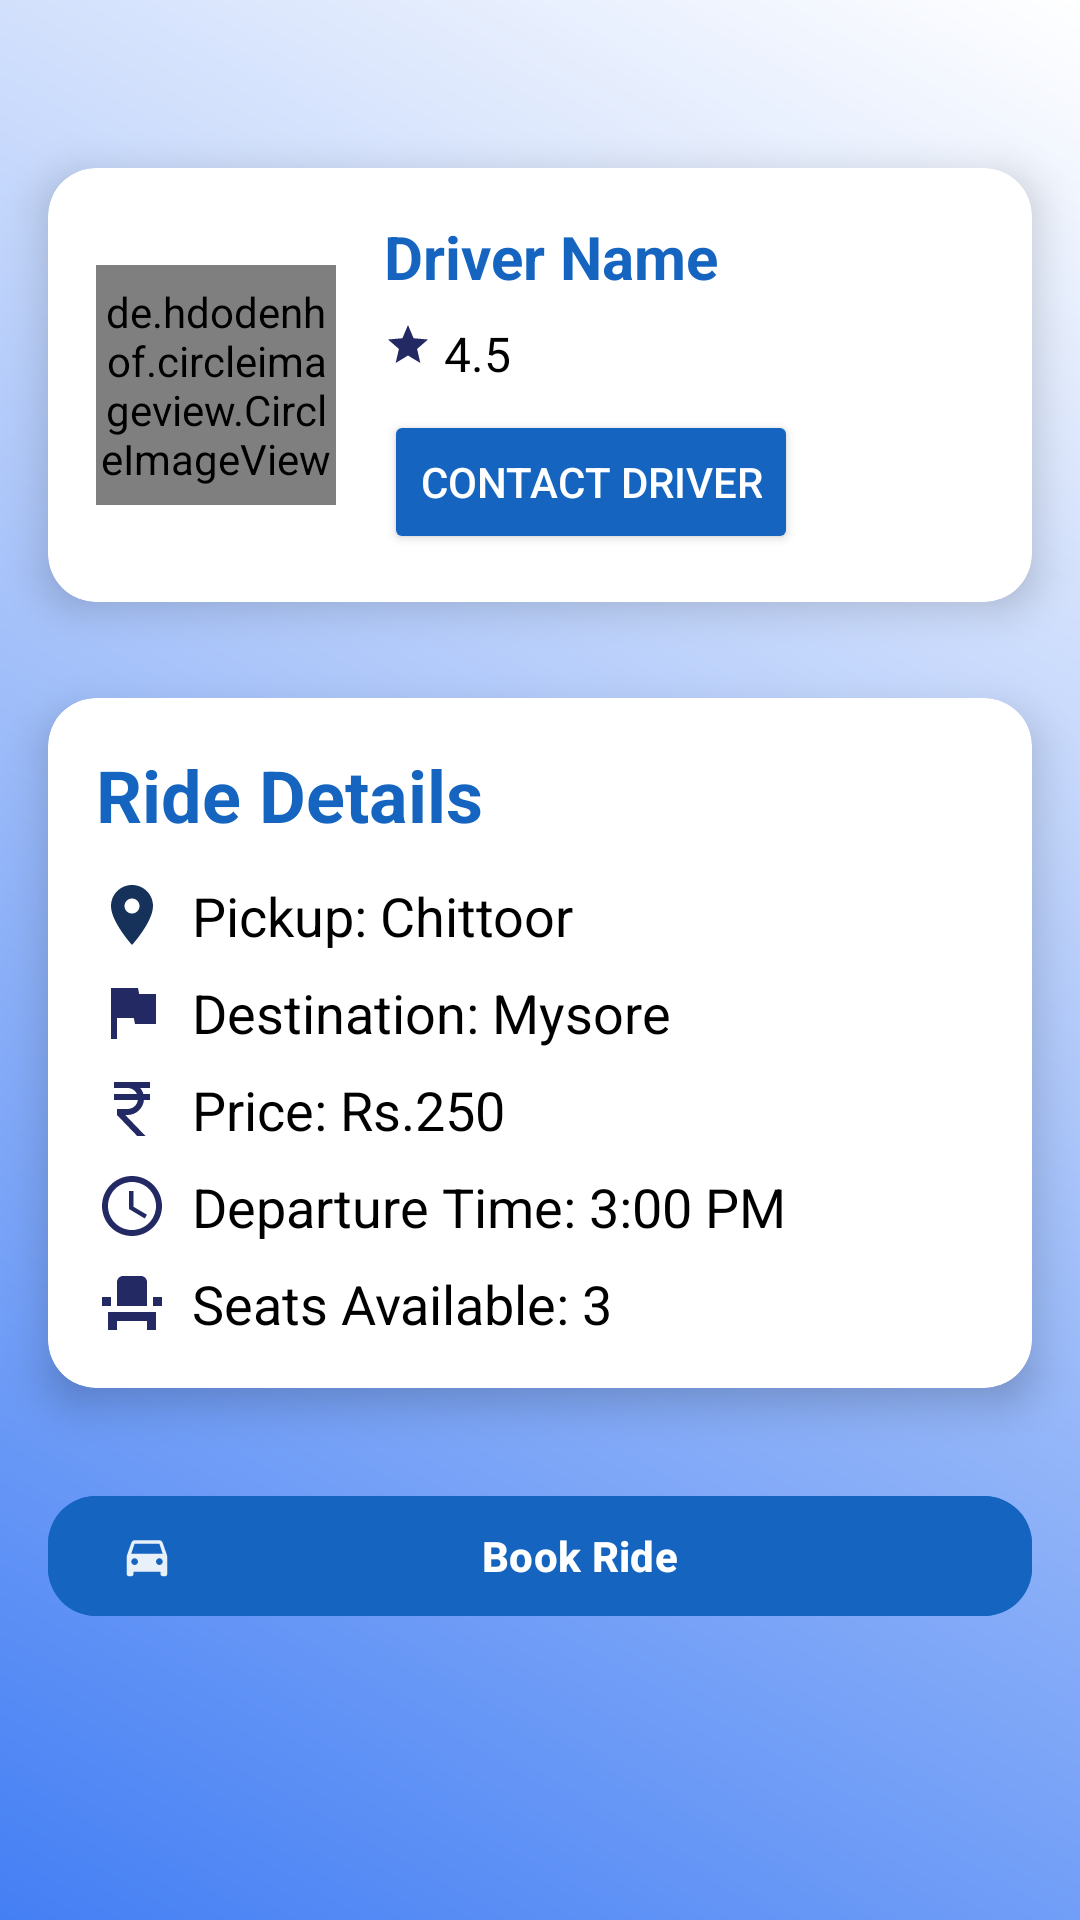

Named icons in this screenshot (1080 × 1920) and their bounding boxes, (x1, y1, x2, y2):
star: (388, 325, 428, 363)
